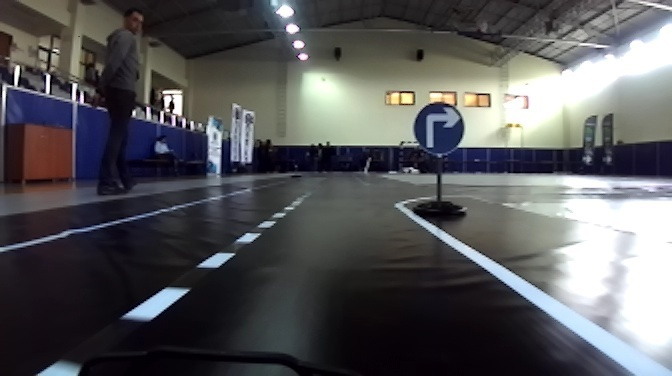saga_donus: (412, 102, 465, 152)
